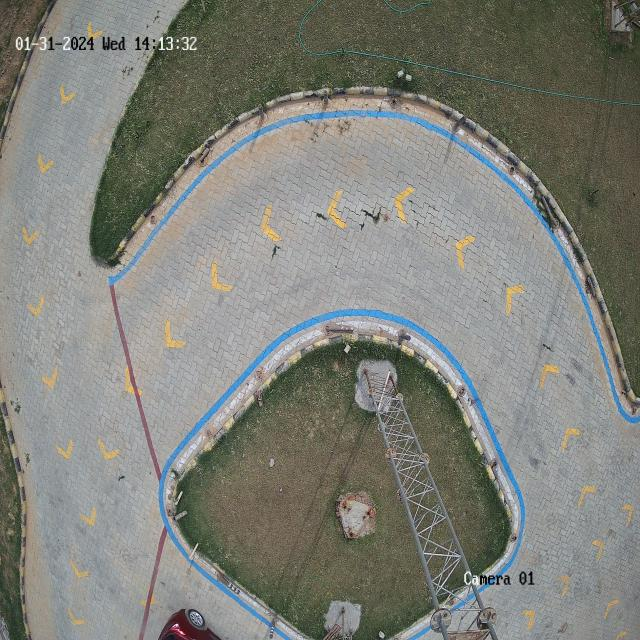car: (159, 608, 220, 640)
